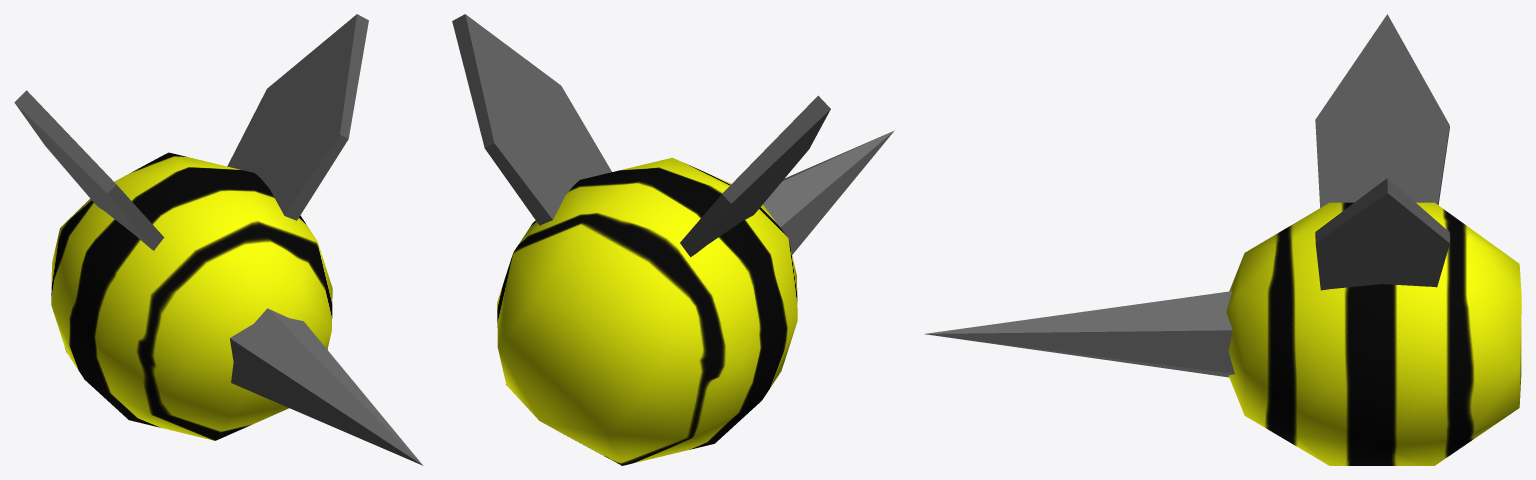
Rendered from Bee.fbx.
3 renders of one model, left to right at view 1: azimuth 30°, elevation 25°; view 2: azimuth 150°, elevation 25°; view 3: azimuth 270°, elevation 25°, orthographic. The views are drawn at different scales.
Parts seen in each view (by area): view 1: Icosphere, Cylinder.001, Cone, Cylinder; view 2: Icosphere, Cylinder.001, Cylinder, Cone; view 3: Icosphere, Cylinder, Cone, Cylinder.001.
Boxes of the visible parts, <box> form: Icosphere: <box>51,152,332,440</box>; Cylinder.001: <box>227,14,368,220</box>; Cone: <box>229,308,422,465</box>; Cylinder: <box>14,90,164,250</box>; Icosphere: <box>497,157,797,465</box>; Cylinder.001: <box>452,14,611,225</box>; Cylinder: <box>680,95,830,257</box>; Cone: <box>763,130,894,254</box>; Icosphere: <box>1226,202,1521,465</box>; Cylinder: <box>1315,14,1449,207</box>; Cone: <box>924,291,1234,377</box>; Cylinder.001: <box>1315,178,1449,290</box>.
Bounding box in the file's own units: 238 × 239 × 352.
